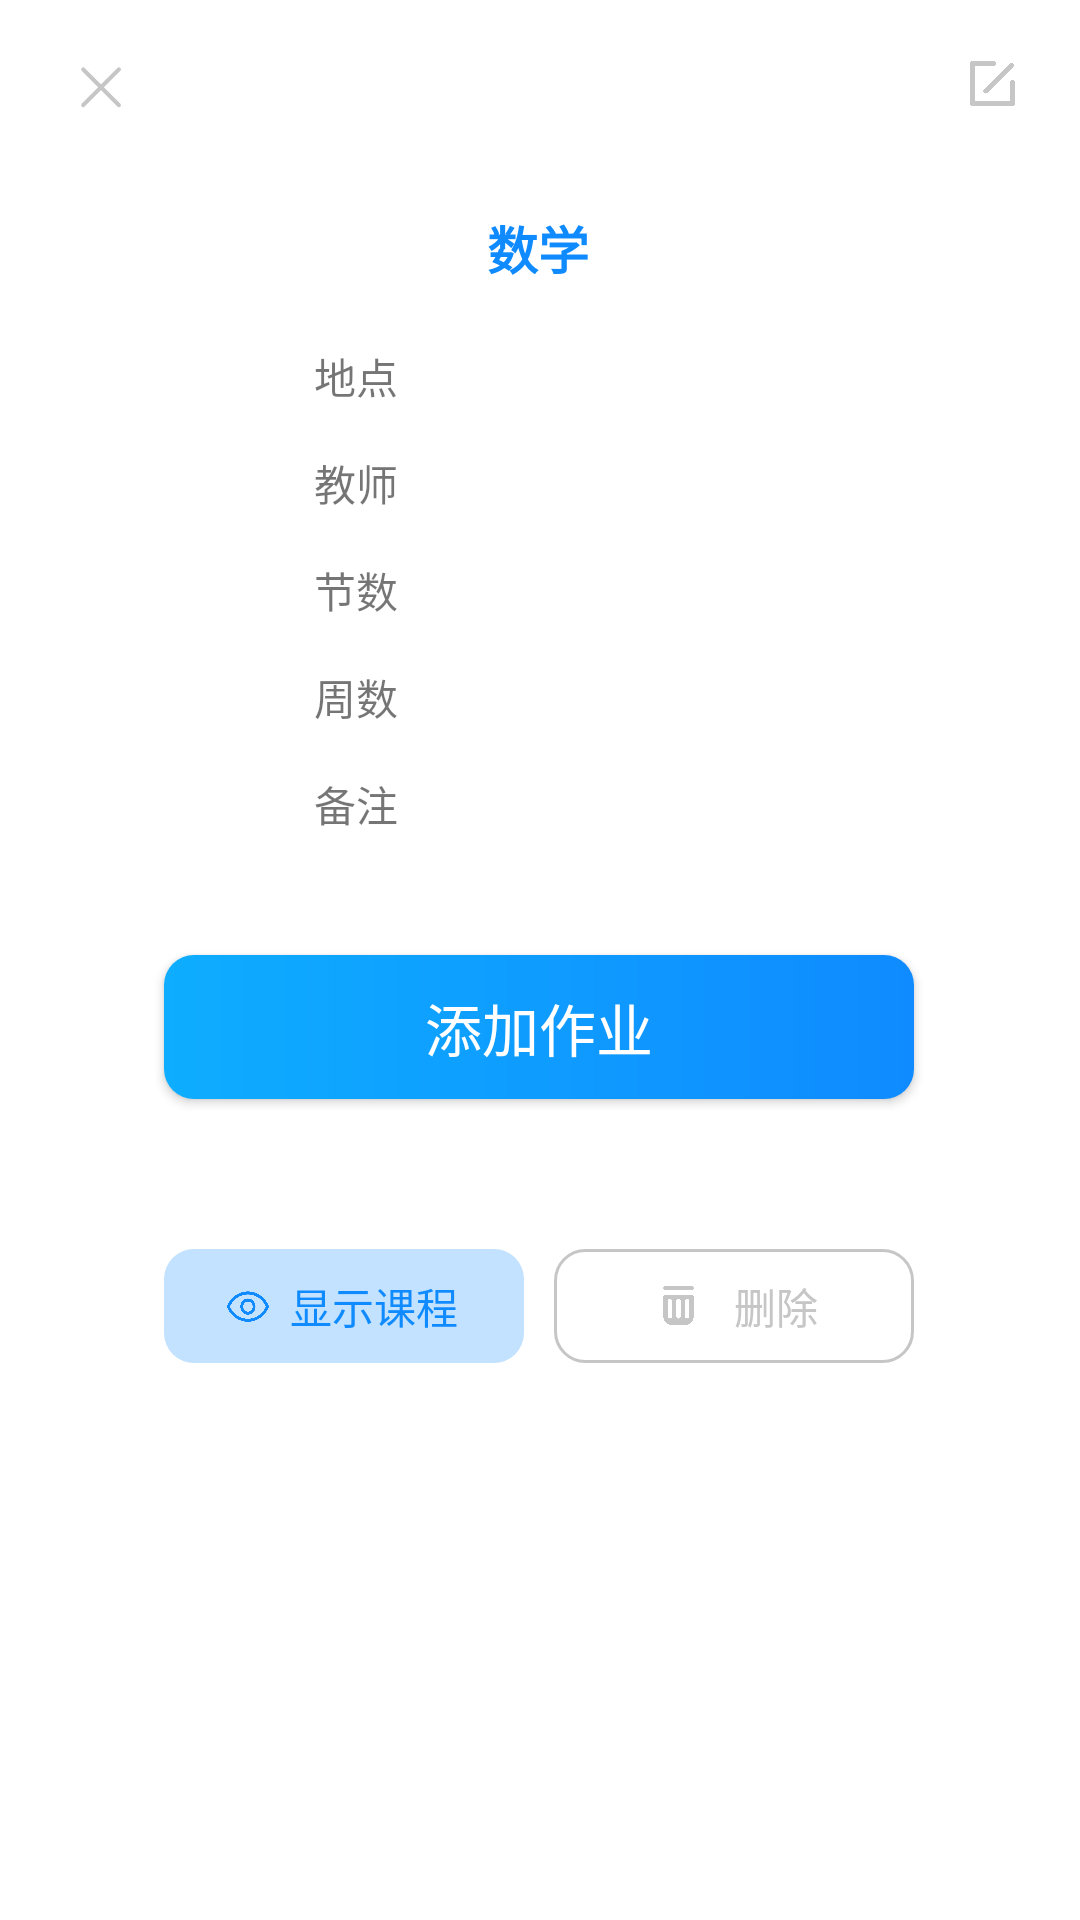

Screen size 1080px×1920px. Icon name, then its box in pixels as Rect(x1, y1, x2, y2):
cross: Rect(81, 67, 121, 107)
edit: Rect(970, 61, 1015, 106)
